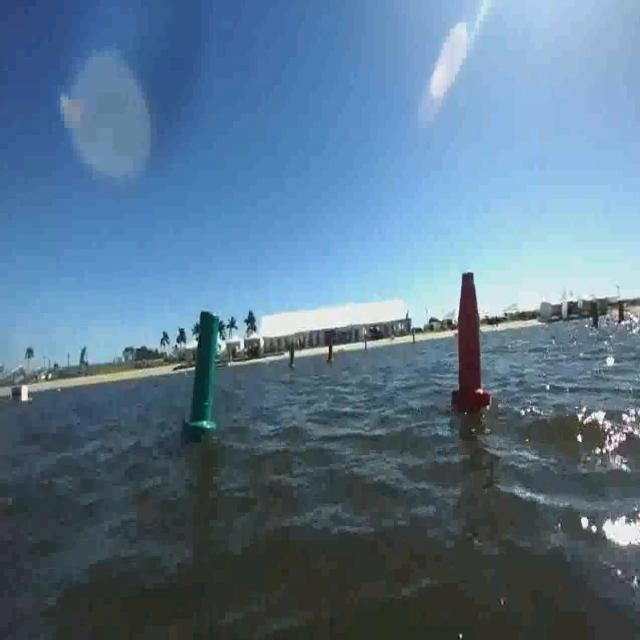green-column-buoy: (189, 307, 223, 434)
red-column-buoy: (454, 266, 492, 411)
